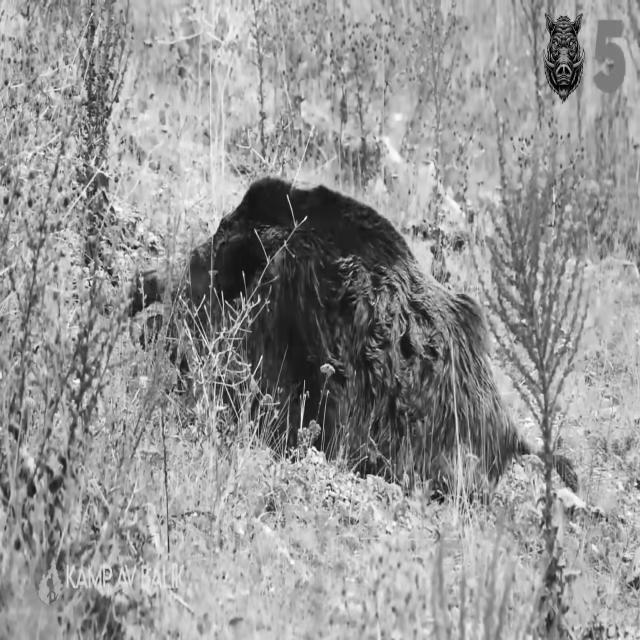boar: (189, 177, 523, 488)
